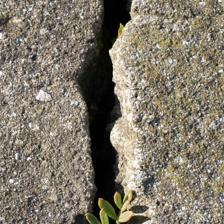Crack: (36, 2, 110, 216)
